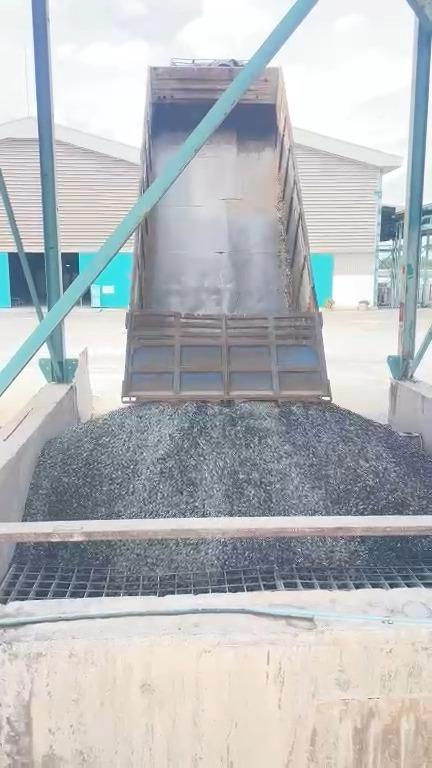gravel: (25, 403, 432, 520), (17, 538, 432, 573)
